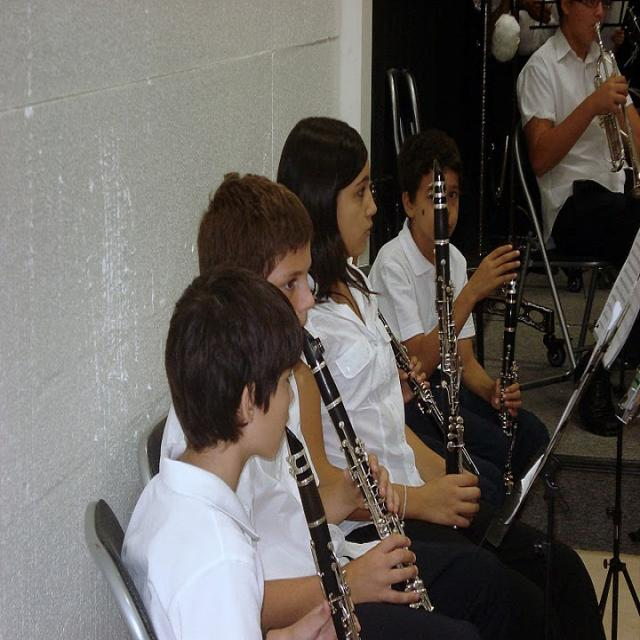clarinet: (299, 324, 440, 612), (373, 308, 481, 483), (282, 426, 366, 638), (431, 160, 467, 476), (498, 229, 516, 441)
